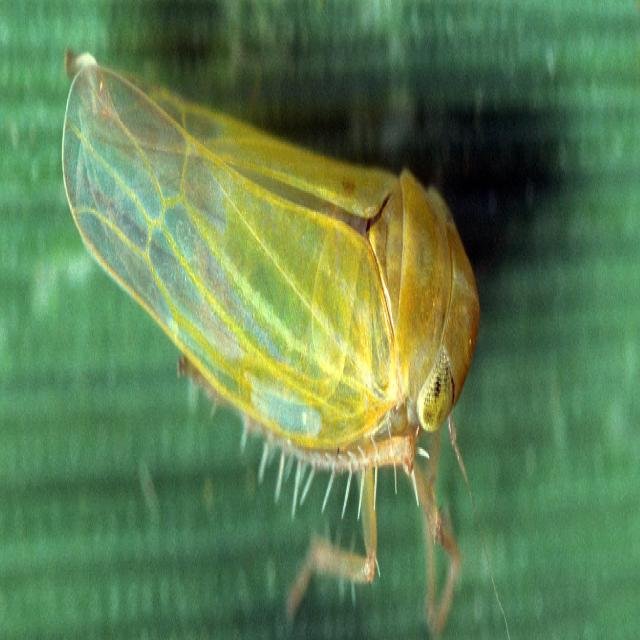Yechan: (46, 24, 500, 602)
